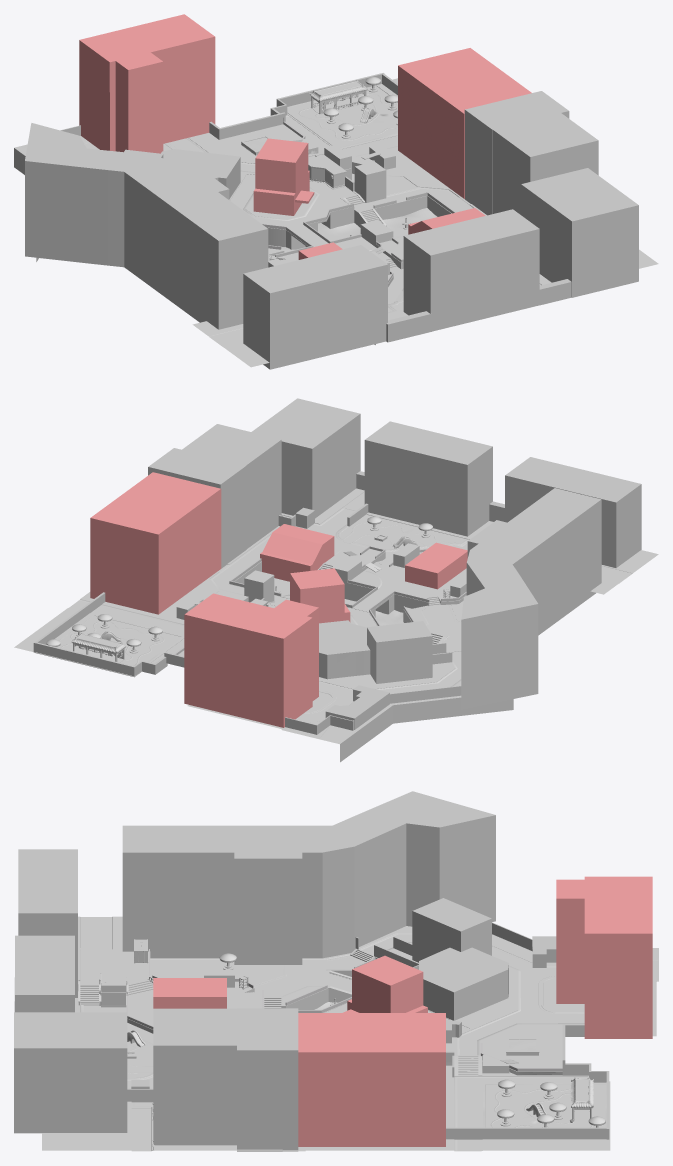
Rendered from E-Market_New.fbx.
3 renders of one model, top to bottom at view 1: azimuth 30°, elevation 25°; view 2: azimuth 150°, elevation 25°; view 3: azimuth 270°, elevation 25°, orthographic. The views are drawn at different scales.
Parts seen in each view (by area): view 1: CodeEvacuation_New; view 2: CodeEvacuation_New; view 3: CodeEvacuation_New.
Boxes of the visible parts, x1=… form: CodeEvacuation_New: x1=14, y1=14, x2=658, y2=369; CodeEvacuation_New: x1=14, y1=398, x2=658, y2=762; CodeEvacuation_New: x1=14, y1=791, x2=658, y2=1151.
Bounding box in the file's own units: 7413 × 1749 × 7952.
